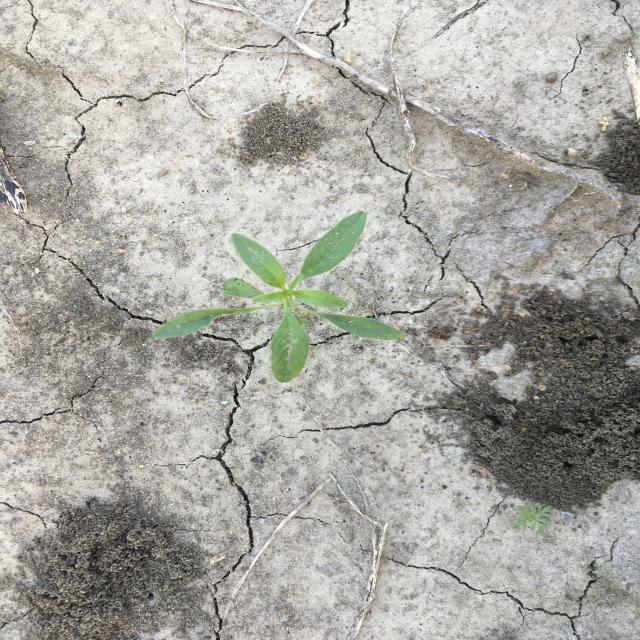Ragweed: (508, 502, 555, 538)
Waterhemp: (150, 209, 408, 384)
